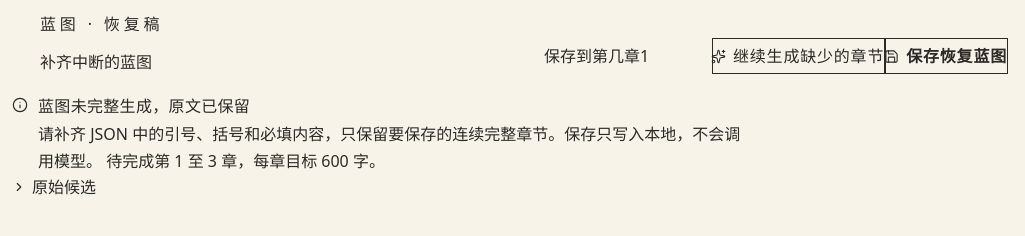
Test: planning recovery editors › reports a blueprint resource conflict without adding a failed continuation
Click the button "继续生成缺少的章节". click: [799, 56]
box: [712, 38, 885, 74]
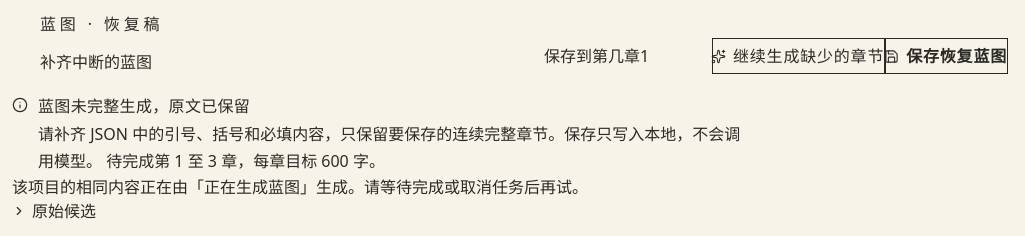
Expected: the message "该项目的相同内容正在由「正在生成蓝图」生成。请等待完成或取消任务后再试。" is shown, [12, 176, 588, 198]
